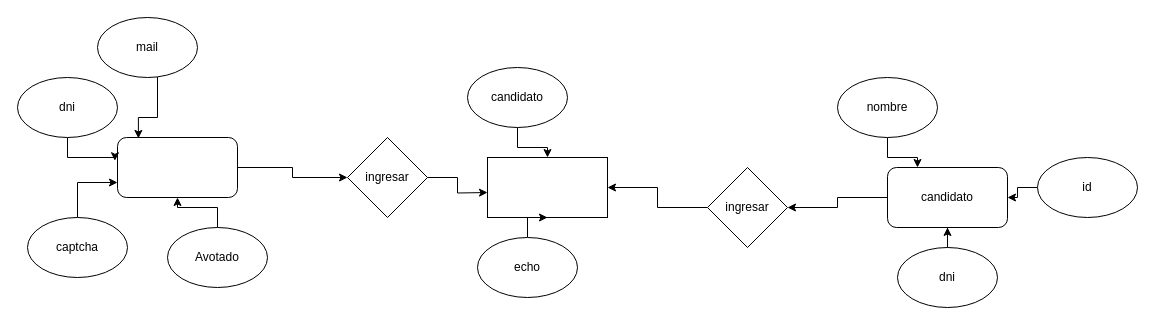
This 1155x325 diagram has some shape labels left out. The shapes that lost their labels are listed below. From the top down, each one's centre as x and y in pixels, then its label:
At (x=177, y=167): "usuario".
At (x=547, y=187): "voto".
